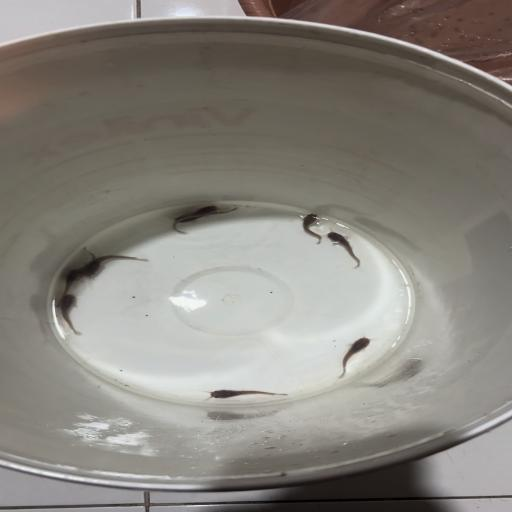lele: (328, 333, 374, 380), (322, 226, 370, 268), (54, 292, 94, 336), (82, 254, 149, 279), (196, 386, 292, 403), (172, 202, 217, 236), (172, 207, 241, 225), (51, 268, 79, 308), (298, 210, 328, 245), (77, 246, 96, 272)
